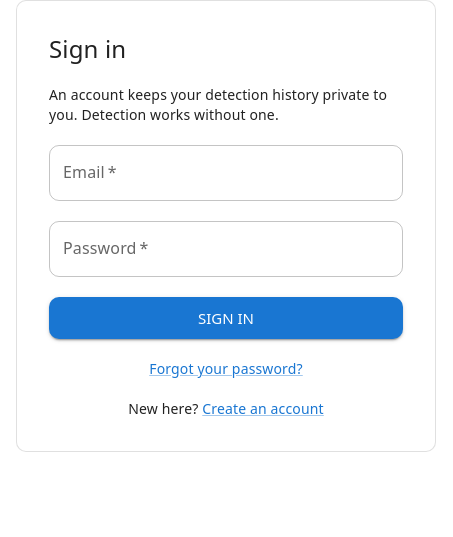
AuthPage › shows the server error for invalid credentials
In the field labelled "Email *": point(226, 173) [49,145,403,201], type "ada@example.com"
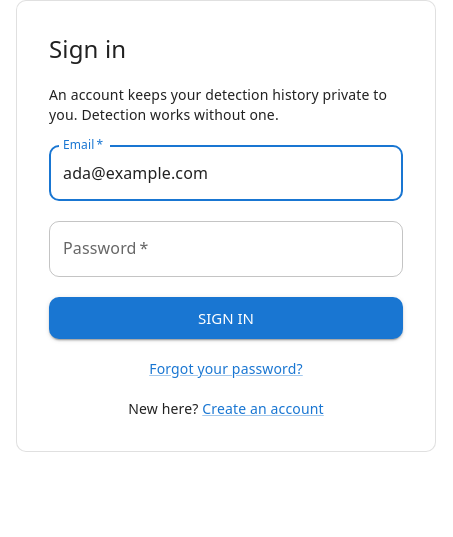
In the password field labelled "Password *": point(226, 249) [49,221,403,277], type "wrong-password"
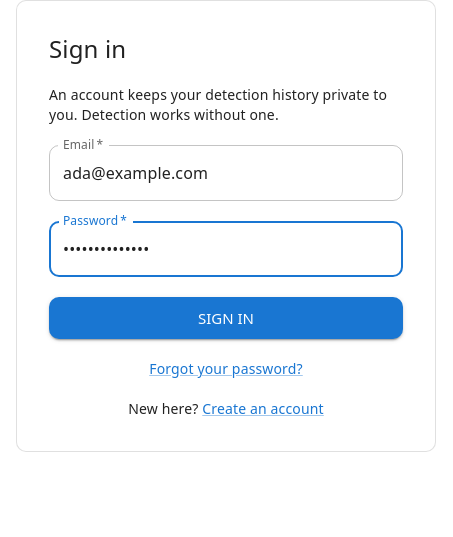
Click the button "Sign in": point(226, 318) [49,297,403,339]
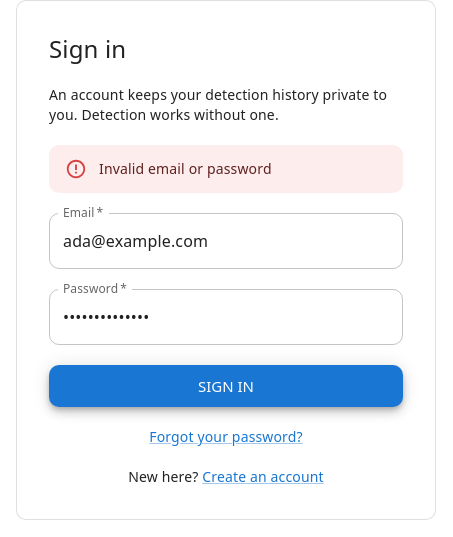
expect the message reads "Invalid email or password": met, box [99,159,272,178]
